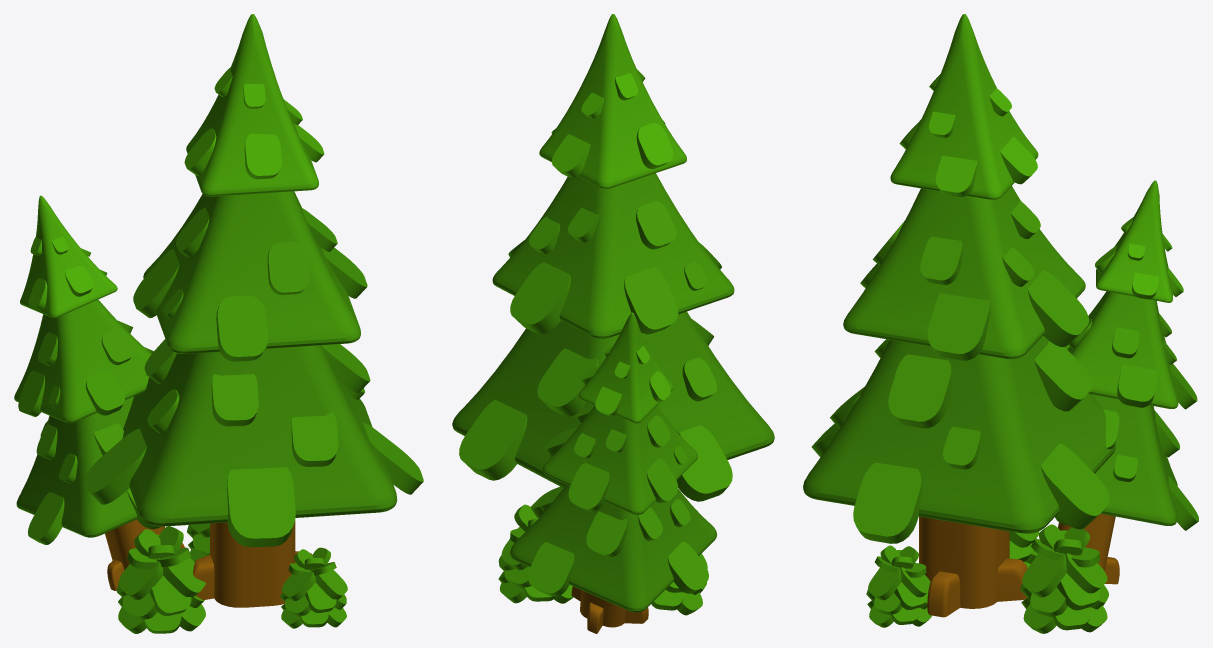
The model's file is bloc_map_1.fbx.
3 renders of one model, left to right at view 1: azimuth 30°, elevation 25°; view 2: azimuth 150°, elevation 25°; view 3: azimuth 270°, elevation 25°, orthographic. The views are drawn at different scales.
Parts seen in each view (by area): view 1: Cube; view 2: Cube; view 3: Cube.
Part boxes in pixels (x1=…): Cube: x1=14, y1=14, x2=423, y2=633; Cube: x1=452, y1=14, x2=774, y2=633; Cube: x1=803, y1=14, x2=1198, y2=633.
Size of the model in its own units: 839 by 1627 by 964.
